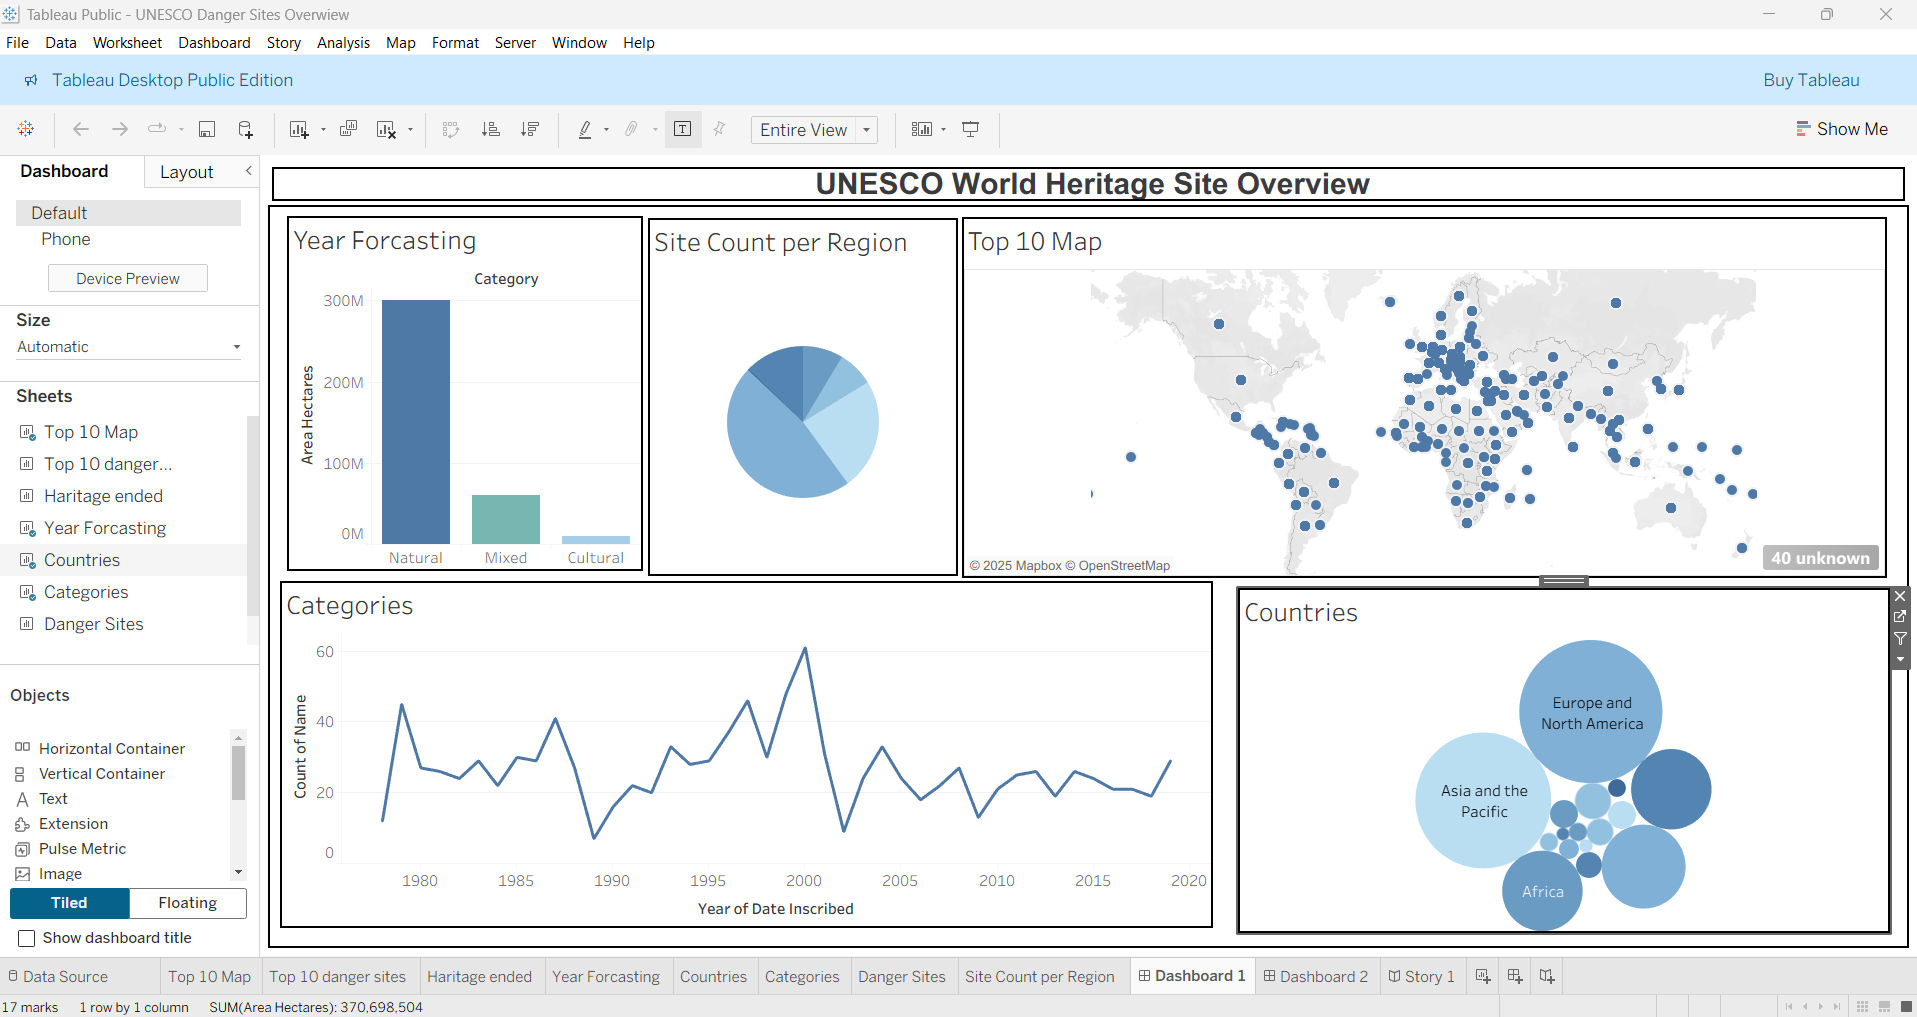

What the dashboard file says about the page in this screenshot:
{"tool":"tableau","page":{"name":"Dashboard 1","canvas":[1000,1000],"units":"permille","ordinal":0},"visuals":[{"type":"title","box":[4.8,10,990.3,52.4]},{"type":"worksheet","title":"Year Forcasting","mark":"Automatic","rows":["area_hectares"],"cols":["category"],"box":[16.3,76.2,214.8,443.2]},{"type":"worksheet","title":"Top 10 Map","mark":"Automatic","box":[423.7,77.4,558.2,450.7]},{"type":"worksheet","title":"Site Count per Region","mark":"Pie","box":[234.2,78.7,187.1,446.9]},{"type":"worksheet","title":"Categories","mark":"Automatic","rows":["name_en"],"cols":["date_inscribed"],"box":[12.1,531.8,563.1,433.2]},{"type":"worksheet","title":"Countries","mark":"Circle","box":[590.2,540.6,393.5,430.7]}]}

Visuals, with their boxes on the dashboard's canvas, which has no fixed pixel size, in thousandths of its width and height (x1, y1, x2, y2). These are canvas units, not pixel positions in the 1917x1017 screenshot, which may show the page scaled, cropped or inside an application window:
title: Rect(5, 10, 995, 62)
"Year Forcasting" worksheet: Rect(16, 76, 231, 519)
"Top 10 Map" worksheet: Rect(424, 77, 982, 528)
"Site Count per Region" worksheet (Pie marks): Rect(234, 79, 421, 526)
"Categories" worksheet: Rect(12, 532, 575, 965)
"Countries" worksheet (Circle marks): Rect(590, 541, 984, 971)
